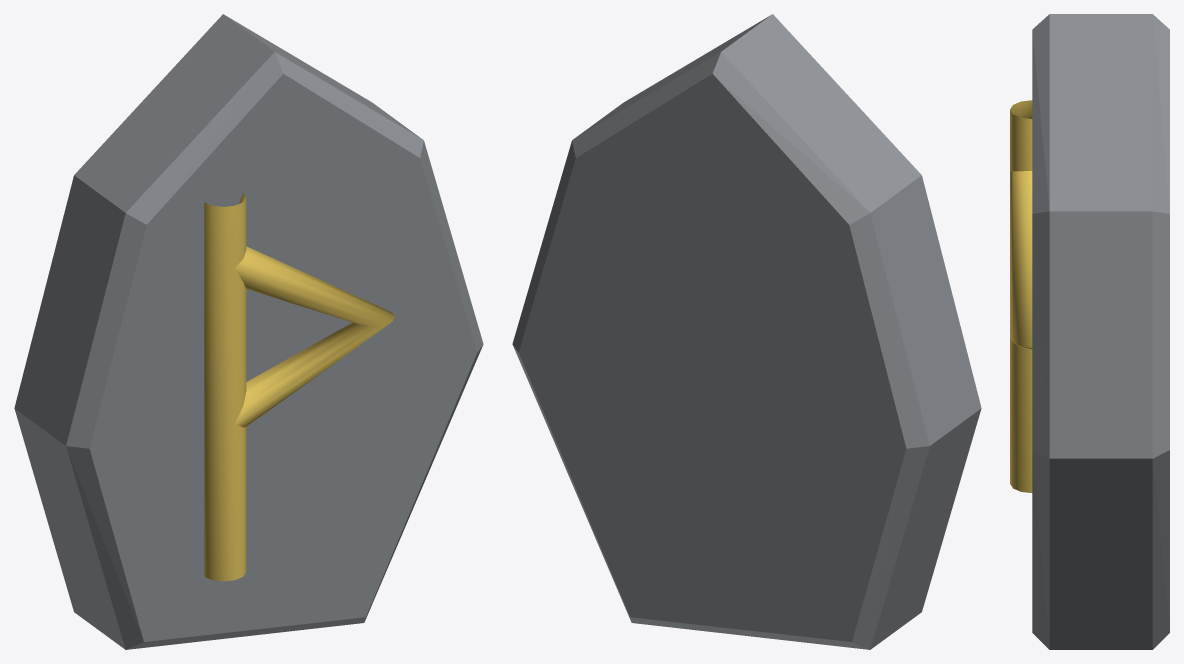
The model's file is pickup_thurisaz_Idle.glb.
3 renders of one model, left to right at view 1: azimuth 30°, elevation 25°; view 2: azimuth 150°, elevation 25°; view 3: azimuth 270°, elevation 25°, orthographic.
Bounding box in the file's own units: 14 × 19 × 4.65.
